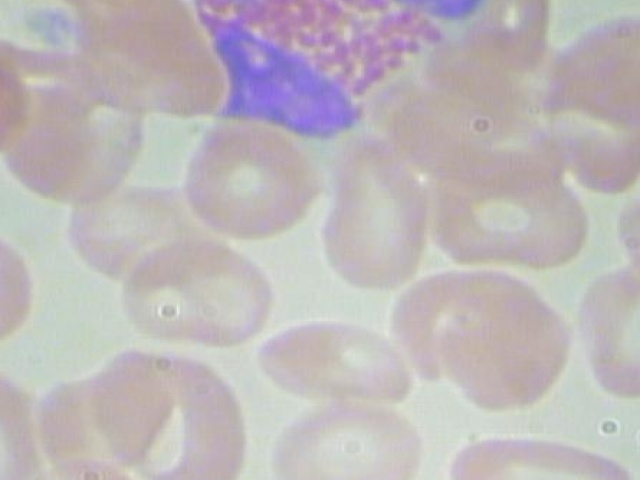Platelets: (10, 0, 82, 46)
RBC: (111, 227, 282, 351), (302, 131, 431, 295), (175, 115, 331, 243), (429, 286, 584, 413), (119, 341, 259, 480), (414, 168, 594, 271), (253, 310, 412, 410), (531, 6, 640, 131), (257, 403, 431, 480), (68, 177, 196, 277), (578, 237, 640, 404), (0, 226, 39, 353), (0, 44, 35, 172), (607, 170, 640, 277), (0, 0, 97, 4)
WBC: (185, 0, 504, 145)
